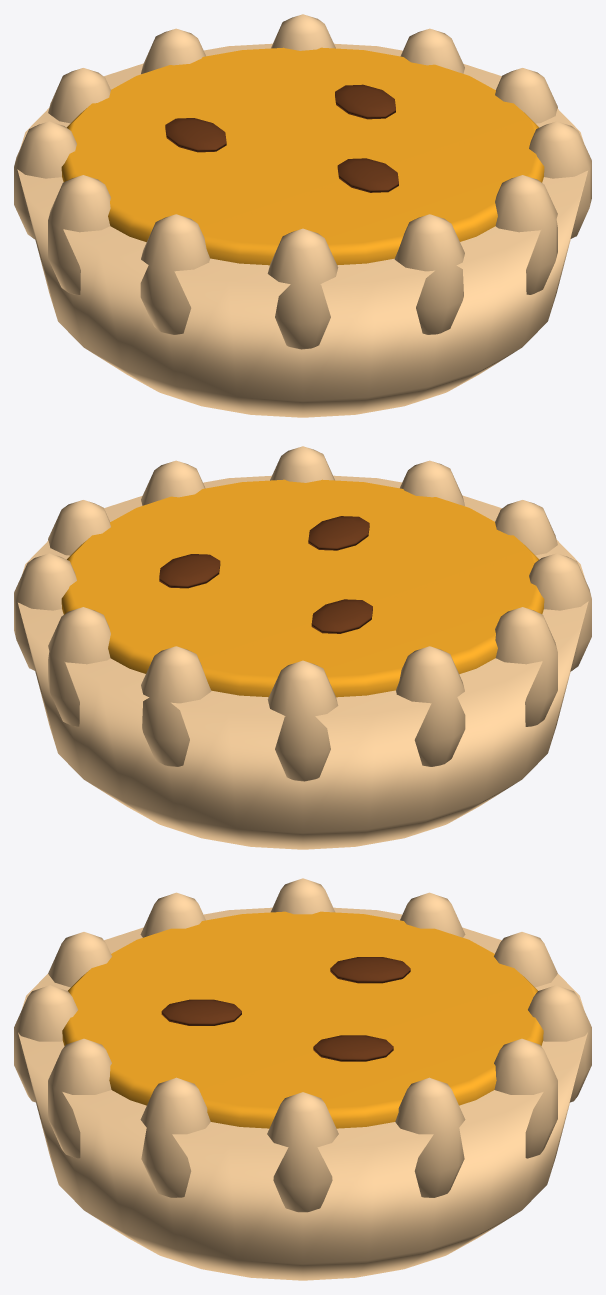
Rendered from eggtart.glb.
3 views of the same model, one above another, from view 1: azimuth 30°, elevation 25°; view 2: azimuth 150°, elevation 25°; view 3: azimuth 270°, elevation 25° (orthographic).
Visible parts, largest first — view 1: eggtart; view 2: eggtart; view 3: eggtart.
Part boxes in pixels (x1,y1,x2,y2): eggtart: [14, 14, 591, 417]; eggtart: [14, 446, 591, 849]; eggtart: [14, 878, 591, 1280].
Size of the model in its own units: 0.9939 by 0.4011 by 1.
Materials: 1 (1 with a texture image).
